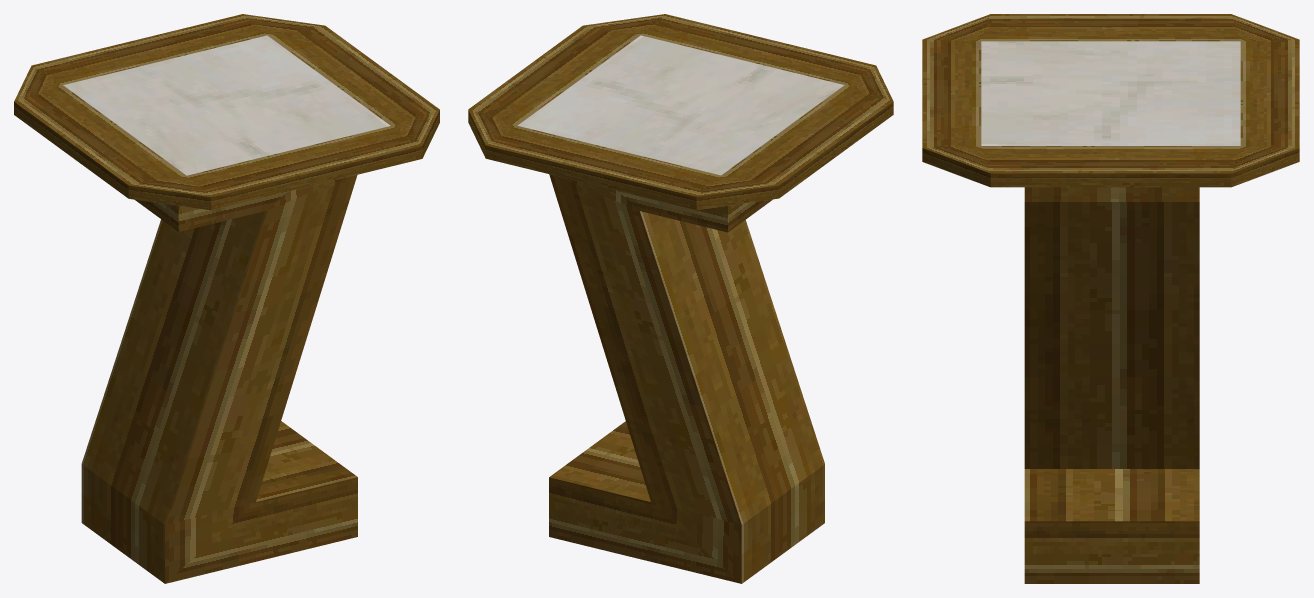
The model's file is octagon_03.fbx.
3 renders of one model, left to right at view 1: azimuth 30°, elevation 25°; view 2: azimuth 150°, elevation 25°; view 3: azimuth 270°, elevation 25°, orthographic. The views are drawn at different scales.
Visible parts, largest first — view 1: mesh_0; view 2: mesh_0; view 3: mesh_0.
Boxes of the visible parts, box(x1,y1,x2,y2) form: mesh_0: box(14, 14, 439, 583); mesh_0: box(468, 14, 893, 583); mesh_0: box(922, 14, 1299, 583).
Size of the model in its own units: 46.19 by 60 by 46.19.
1 material, 1 textured.
